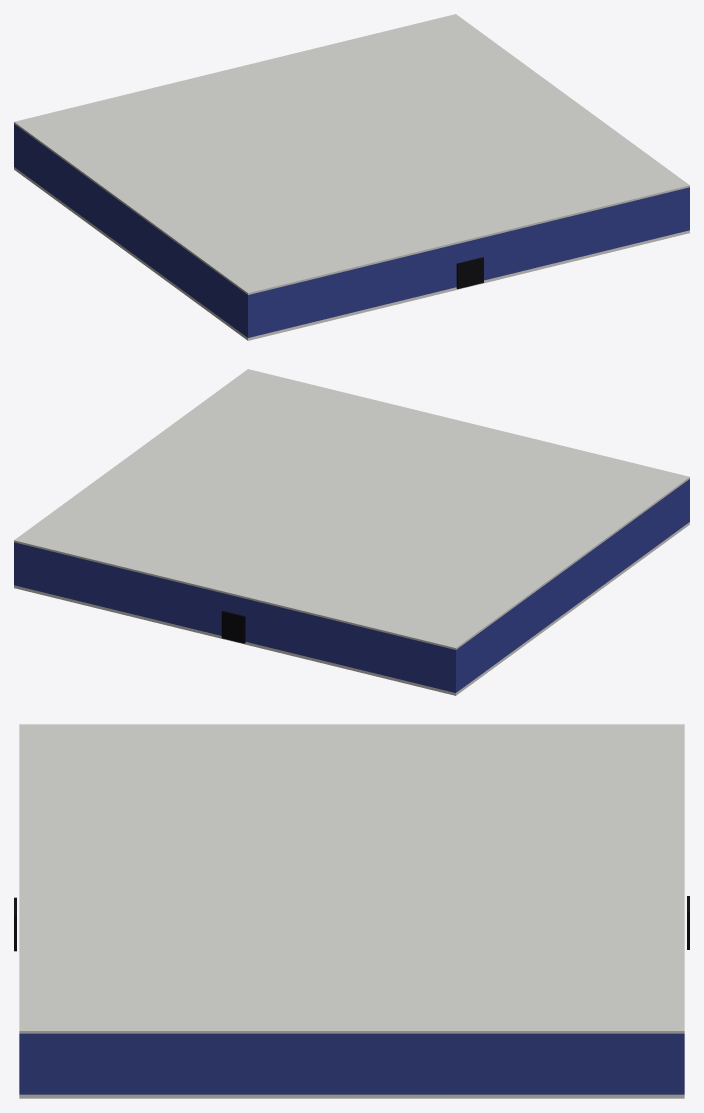
Rendered from rdwe_finale.glb.
3 renders of one model, top to bottom at view 1: azimuth 30°, elevation 25°; view 2: azimuth 150°, elevation 25°; view 3: azimuth 270°, elevation 25°, orthographic. The views are drawn at different scales.
Parts seen in each view (by area): view 1: Finale_Ceiling, Finale_Wall_W_1, Finale_Wall_S_1, Finale_Wall_S_3, Finale_Floor, Beyond_grocery; view 2: Finale_Ceiling, Finale_Wall_W_1, Finale_Wall_N_1, Finale_Wall_N_3, Finale_Floor, Beyond_win; view 3: Finale_Ceiling, Finale_Wall_E_1, Finale_Floor.
Part boxes in pixels (x1=…): Finale_Ceiling: x1=14, y1=14, x2=689, y2=294; Finale_Wall_W_1: x1=15, y1=125, x2=246, y2=336; Finale_Wall_S_1: x1=247, y1=244, x2=457, y2=337; Finale_Wall_S_3: x1=480, y1=187, x2=689, y2=280; Finale_Floor: x1=14, y1=167, x2=689, y2=340; Beyond_grocery: x1=456, y1=257, x2=483, y2=288; Finale_Ceiling: x1=14, y1=369, x2=689, y2=649; Finale_Wall_W_1: x1=457, y1=480, x2=688, y2=691; Finale_Wall_N_1: x1=244, y1=598, x2=456, y2=692; Finale_Wall_N_3: x1=14, y1=542, x2=225, y2=635; Finale_Floor: x1=14, y1=522, x2=689, y2=695; Beyond_win: x1=221, y1=611, x2=245, y2=643; Finale_Ceiling: x1=19, y1=724, x2=684, y2=1033; Finale_Wall_E_1: x1=22, y1=1033, x2=681, y2=1094; Finale_Floor: x1=19, y1=1094, x2=684, y2=1098.
Size of the model in its own units: 48.4 by 5 by 45.1.
